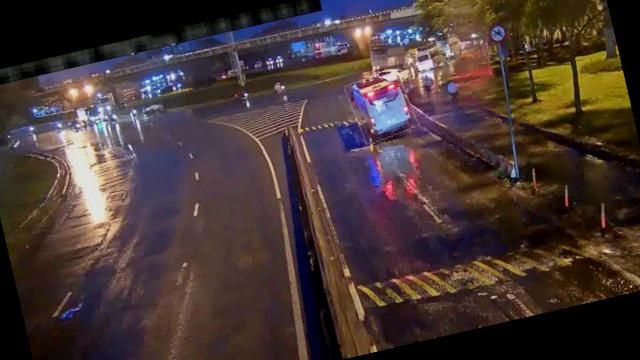Bus: (344, 67, 418, 146), (411, 46, 444, 72)
Car: (377, 63, 414, 88)
Truck: (368, 38, 412, 75)
